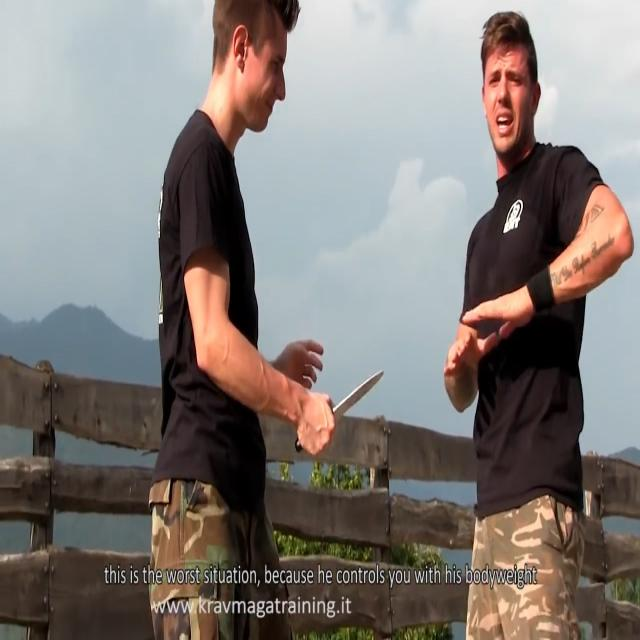knife: (331, 367, 387, 424)
